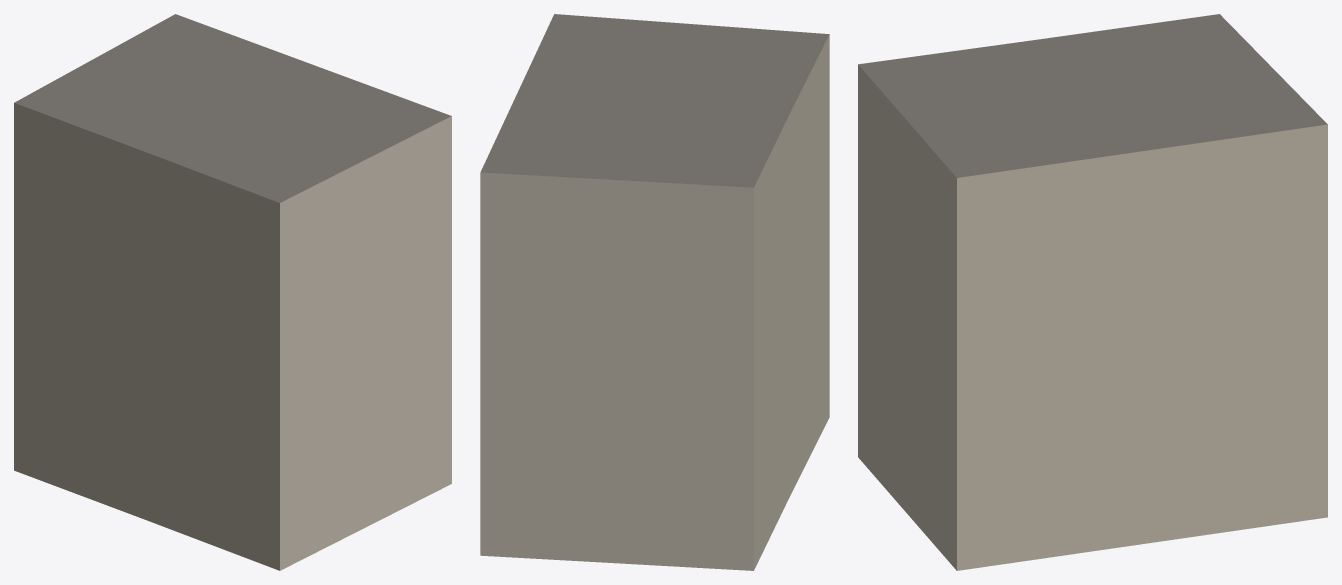
3 views of the same model, side by side, from view 1: azimuth 30°, elevation 25°; view 2: azimuth 150°, elevation 25°; view 3: azimuth 270°, elevation 25° (orthographic). The views are drawn at different scales.
Parts seen in each view (by area): view 1: HP-w1198559398; view 2: HP-w1198559398; view 3: HP-w1198559398.
Part boxes in pixels (x1=…): HP-w1198559398: x1=14, y1=14, x2=451, y2=570; HP-w1198559398: x1=480, y1=14, x2=829, y2=570; HP-w1198559398: x1=858, y1=14, x2=1327, y2=570.
Size of the model in its own units: 16.11 by 18 by 19.5.
